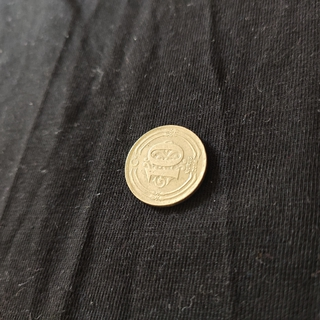10KURUS: (123, 122, 209, 208)
